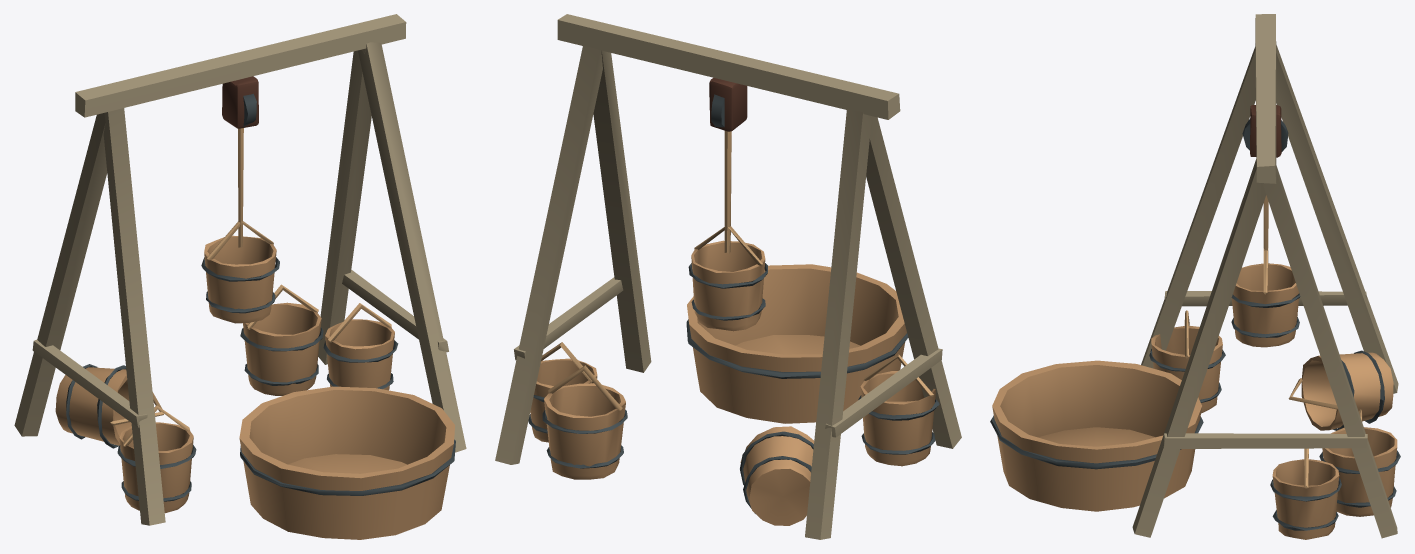
The model's file is pump_bucket.glb.
3 renders of one model, left to right at view 1: azimuth 30°, elevation 25°; view 2: azimuth 150°, elevation 25°; view 3: azimuth 270°, elevation 25°, orthographic. The views are drawn at different scales.
Parts seen in each view (by area): view 1: PumpBucket, Buckets; view 2: PumpBucket, Buckets; view 3: PumpBucket, Buckets.
Part boxes in pixels (x1,y1,x2,y2): PumpBucket: (14, 14, 466, 539); Buckets: (201, 128, 279, 323); PumpBucket: (495, 14, 961, 539); Buckets: (688, 131, 767, 331); PumpBucket: (990, 14, 1400, 539); Buckets: (1231, 195, 1300, 347).
Size of the model in its own units: 1.67 by 1.86 by 1.83.
